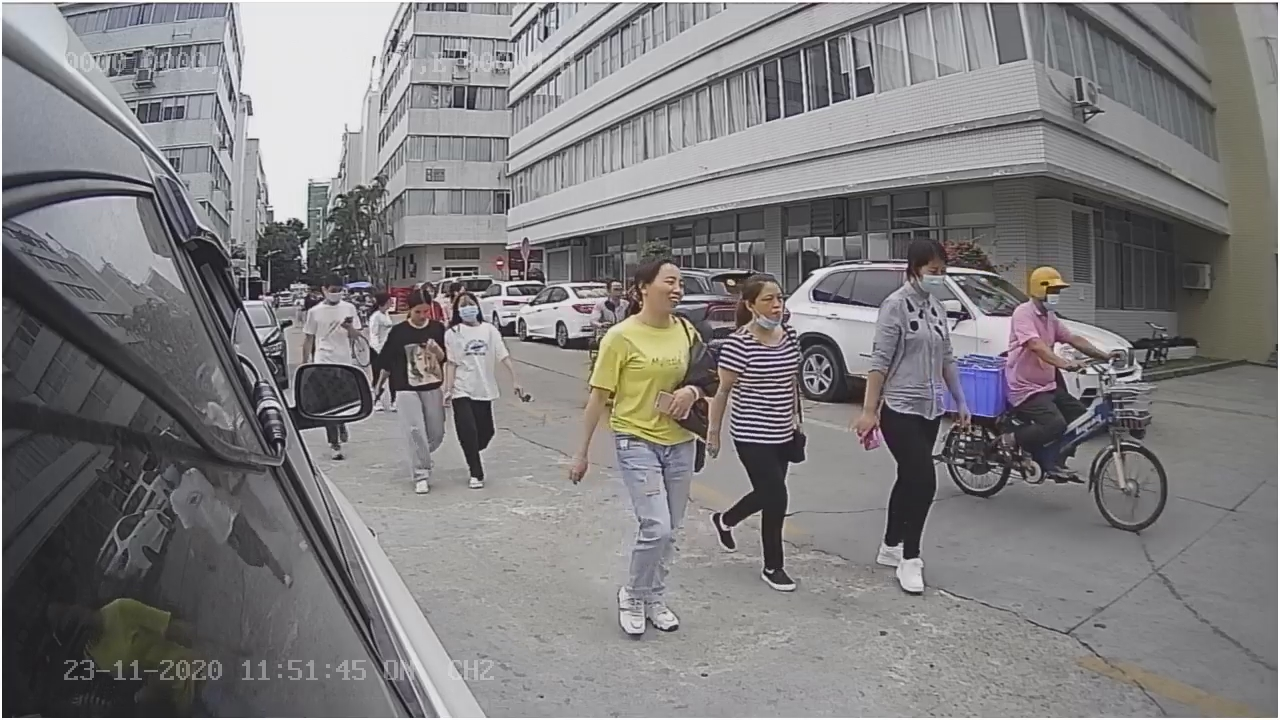person: (570, 245, 711, 635), (856, 238, 974, 595), (444, 291, 530, 487), (1003, 255, 1118, 372)
